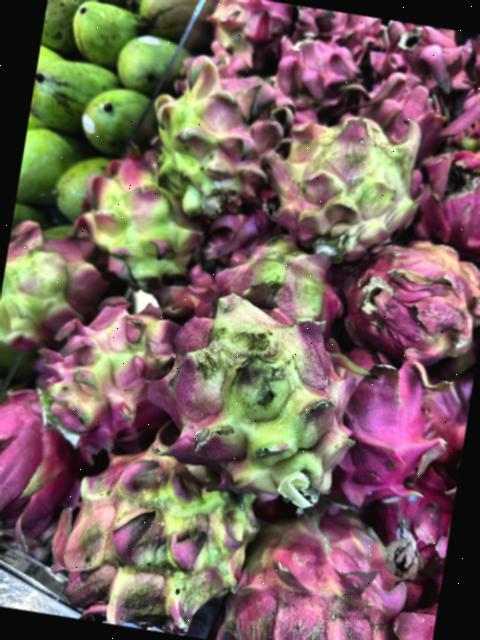buah-naga-belum-matang: (144, 288, 377, 526), (47, 437, 272, 640), (23, 284, 191, 464), (253, 100, 433, 260), (149, 49, 308, 227), (66, 146, 209, 295), (346, 237, 480, 372), (0, 210, 118, 355), (209, 218, 354, 334), (201, 0, 293, 79)
buah-naga-matang: (318, 338, 460, 528), (232, 504, 417, 640), (0, 379, 96, 568), (348, 51, 456, 156), (400, 129, 480, 261), (262, 19, 367, 118), (374, 19, 480, 105)
